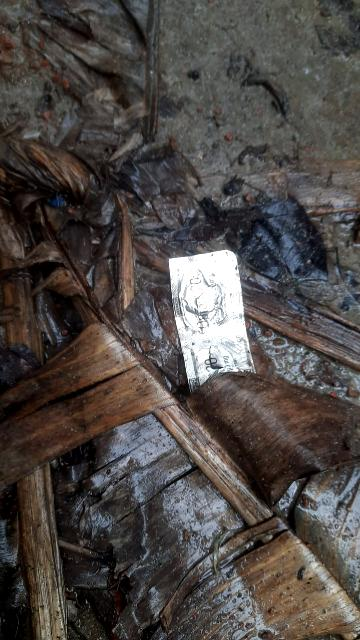medicine: (157, 247, 268, 392)
